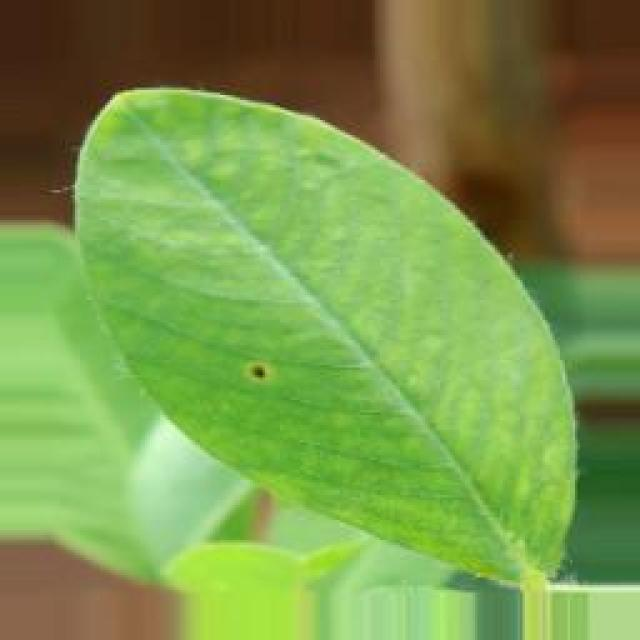Sigatoka: (243, 349, 288, 411)
